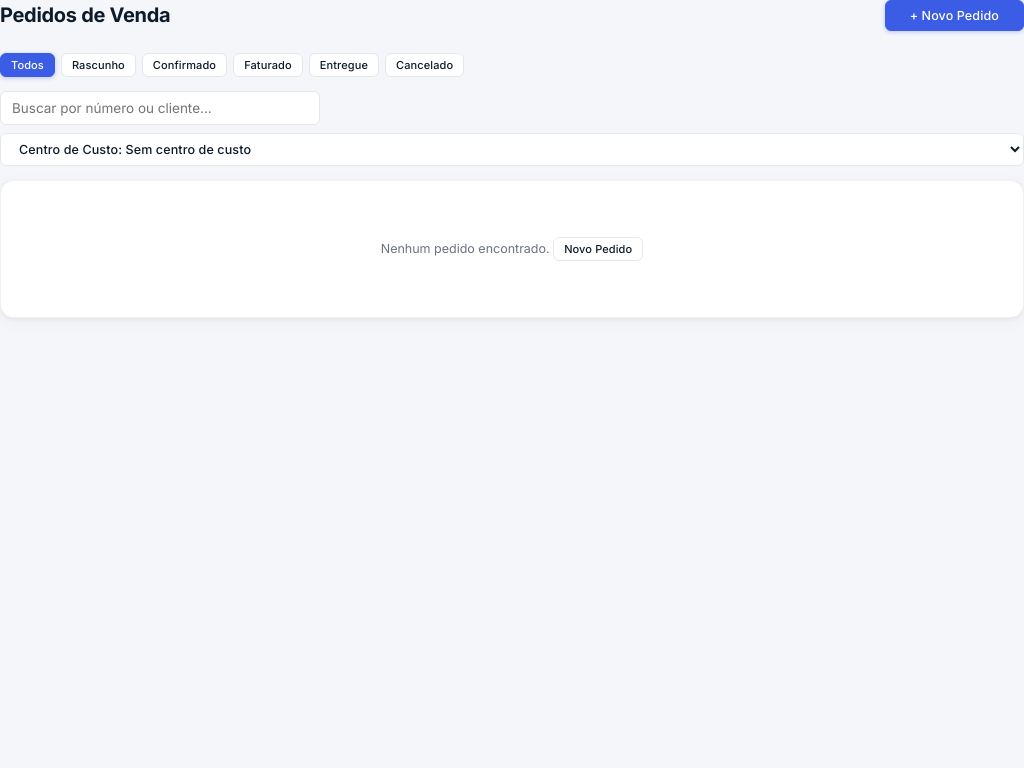
Scenario: OrdersPage — drawer / create form › shows error alert when client/material API fails
Step 1. Click the button "+ Novo Pedido" → (954, 16), box [885,0,1023,31]
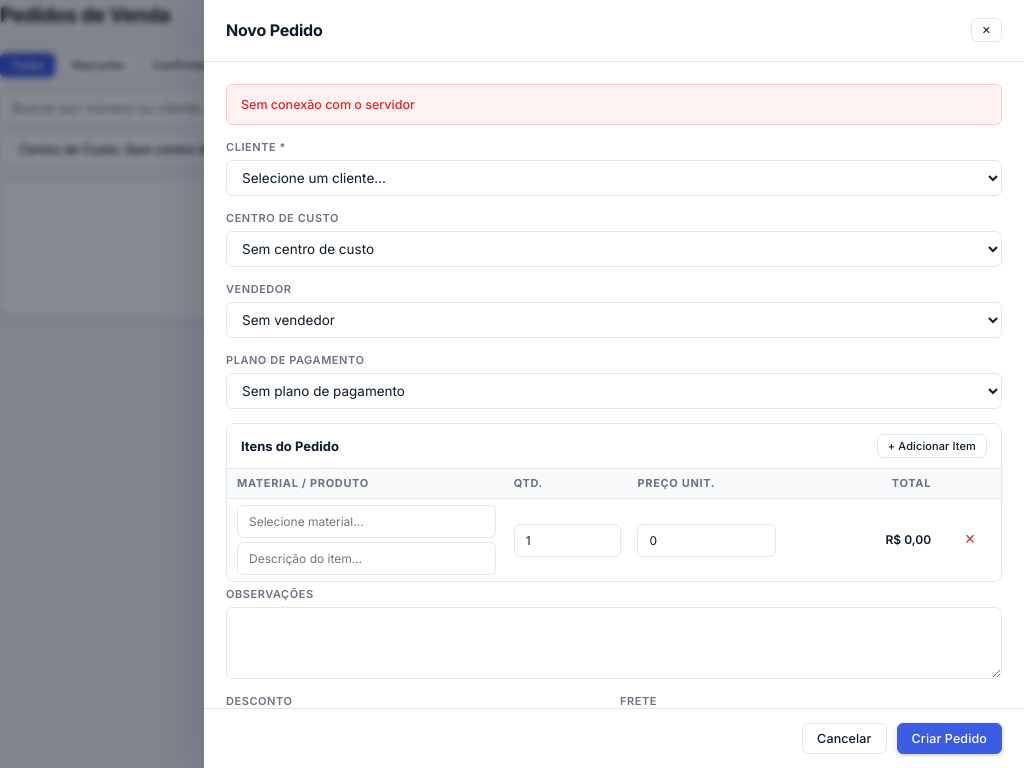
Expected: the message reads "Sem conexão com o servidor", [241,97,415,112]
